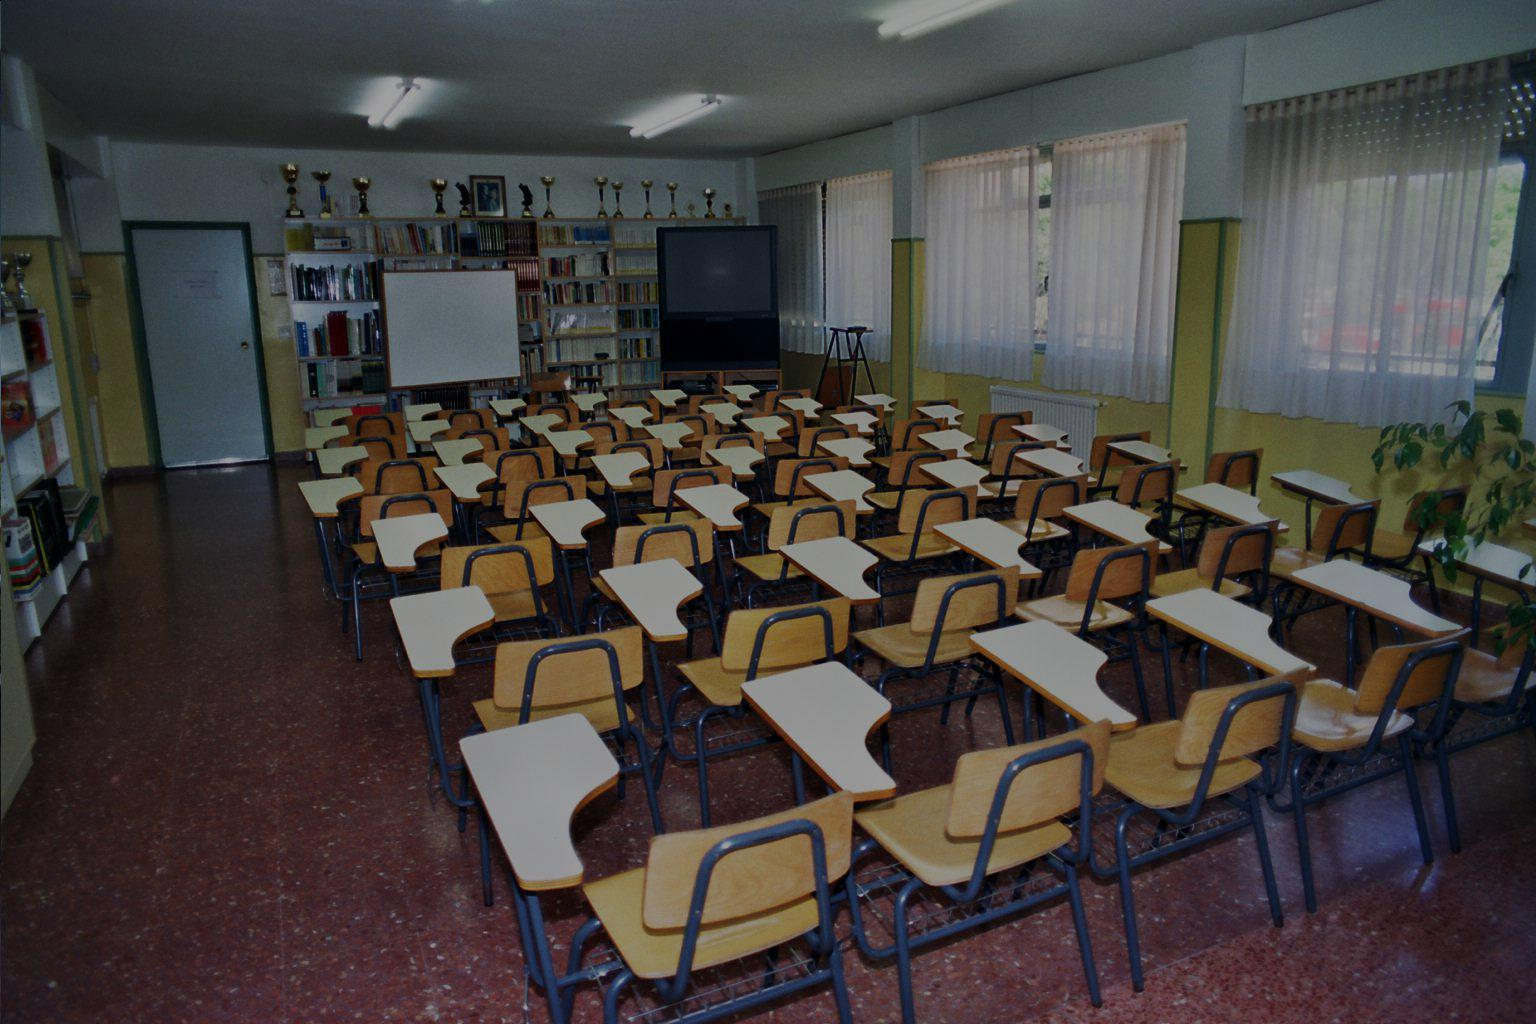Puerta: (150, 219, 250, 466)
